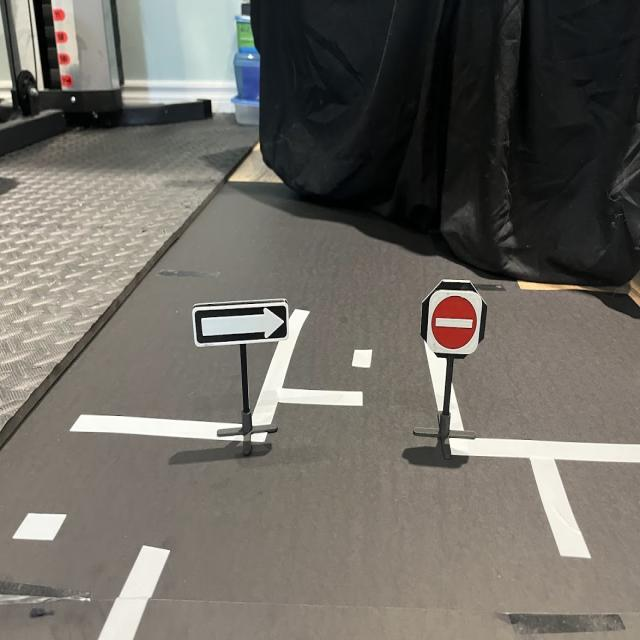sign_noentry: (427, 288, 483, 360)
sign_oneway_right: (192, 301, 291, 350)
